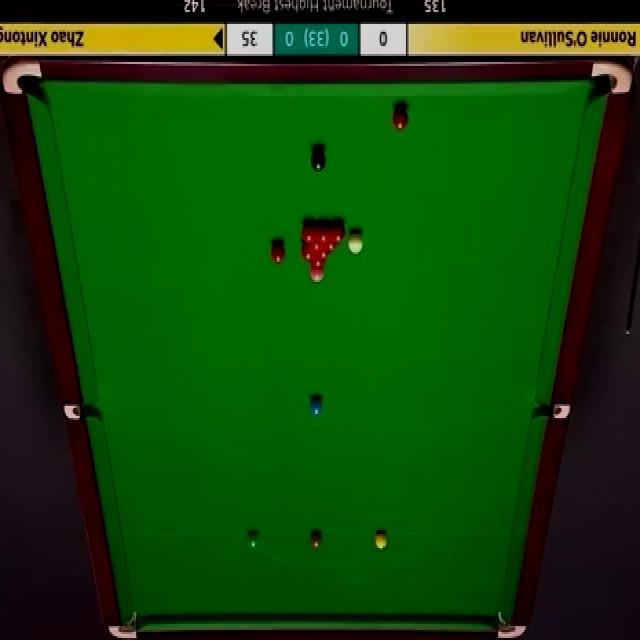black-ball: (310, 142, 328, 173)
blue-ball: (308, 393, 324, 418)
brown-ball: (309, 529, 323, 549)
green-ball: (246, 528, 260, 550)
pink-ball: (307, 270, 326, 284)
red-ball: (392, 103, 410, 131), (270, 240, 285, 265), (330, 221, 346, 244), (316, 223, 332, 243), (302, 220, 316, 242), (300, 244, 316, 261), (322, 240, 338, 252), (308, 240, 325, 251), (316, 248, 331, 260), (310, 259, 326, 270)
white-ball: (347, 230, 364, 257)
yellow-ball: (374, 530, 388, 550)
